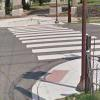Crosswalk: (5, 16, 79, 62)
